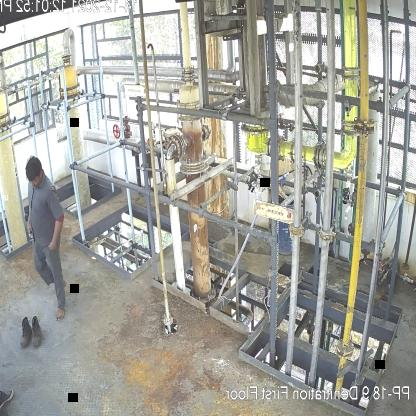no_shoes: (54, 300, 68, 320)
shoes: (17, 314, 33, 354), (31, 315, 45, 348)
